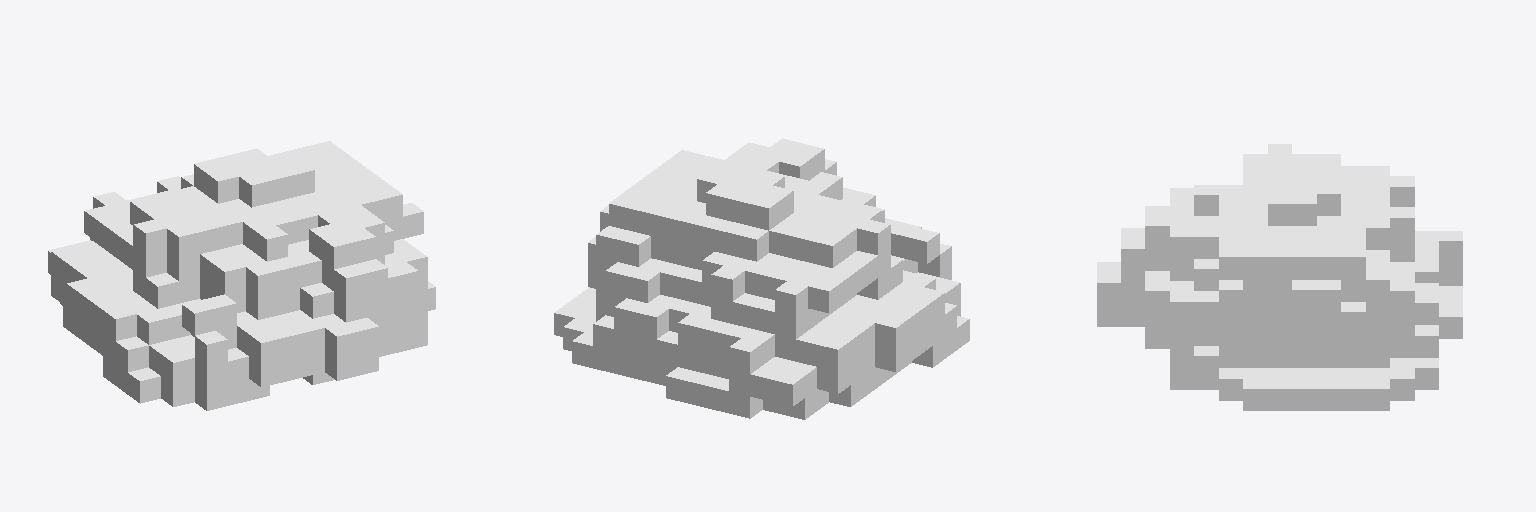
Rendered from rock-smol-2.obj.
3 views of the same model, side by side, from view 1: azimuth 30°, elevation 25°; view 2: azimuth 150°, elevation 25°; view 3: azimuth 270°, elevation 25° (orthographic).
Visible parts, largest first — view 1: object 1; view 2: object 1; view 3: object 1.
Boxes of the visible parts, x1=… form: object 1: x1=48, y1=141, x2=435, y2=410; object 1: x1=554, y1=138, x2=969, y2=419; object 1: x1=1097, y1=144, x2=1462, y2=410.
Bounding box in the file's own units: 1.5 × 0.7 × 1.5.